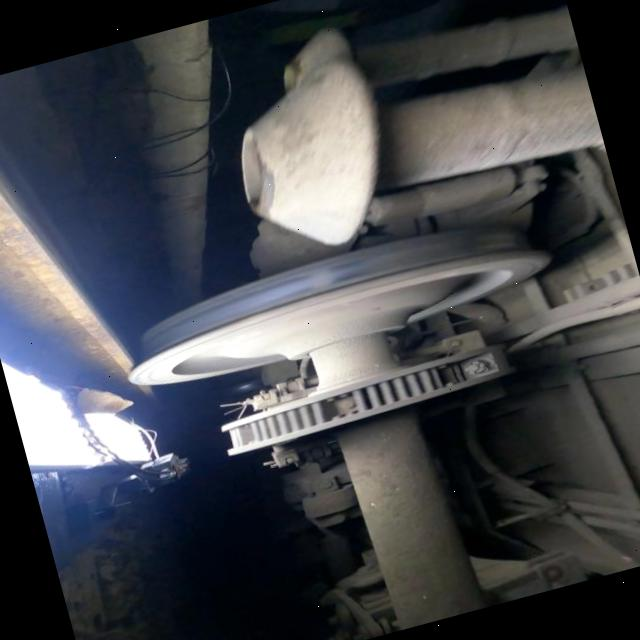Discoloration: (329, 255, 366, 285), (283, 273, 310, 298)
Shelling: (368, 233, 523, 274), (309, 265, 331, 288)
Wheel: (127, 227, 549, 385)
